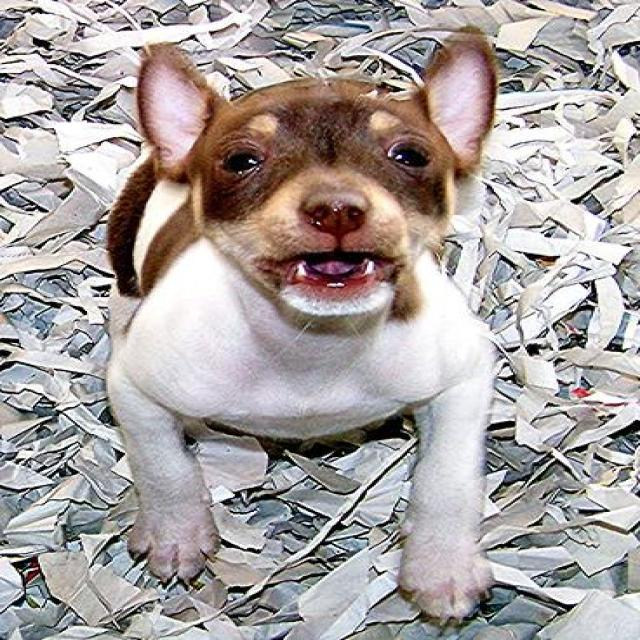angry: (77, 21, 568, 631)
